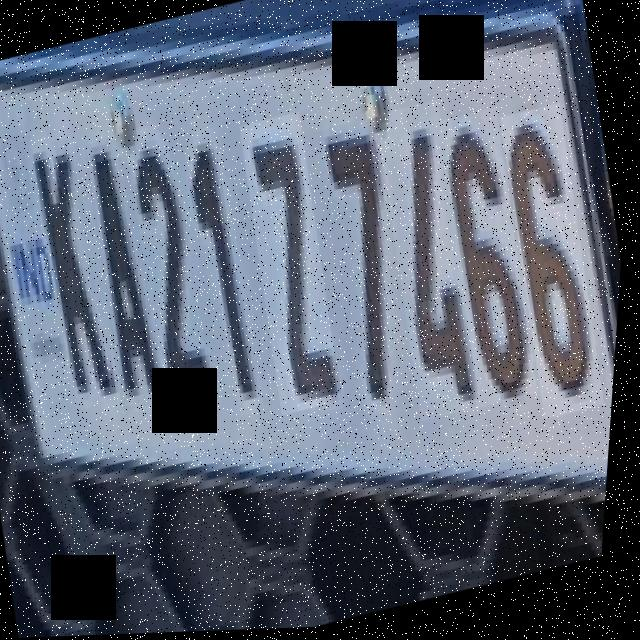1: (164, 119, 284, 415)
4: (362, 101, 504, 426)
6: (485, 105, 626, 427), (427, 110, 559, 412)
7: (306, 111, 435, 420)
A: (72, 134, 184, 414)
K: (16, 127, 139, 424)
Z: (226, 112, 363, 419)
